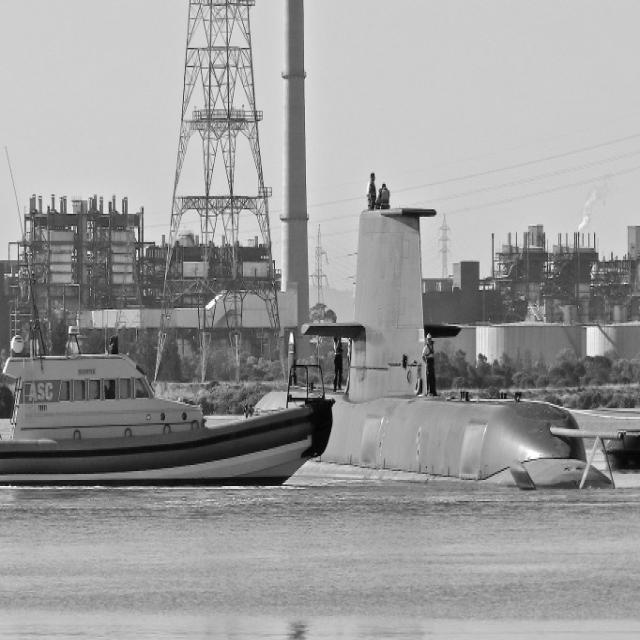submarine: (250, 205, 621, 489)
